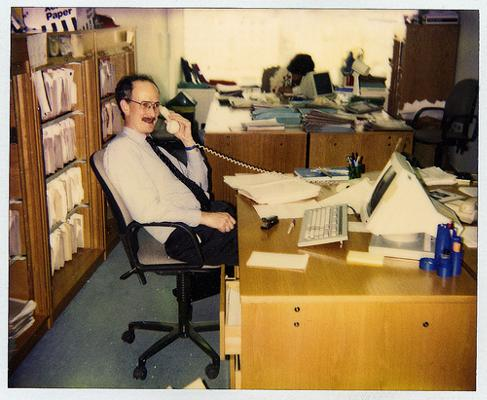person: (103, 71, 239, 263)
